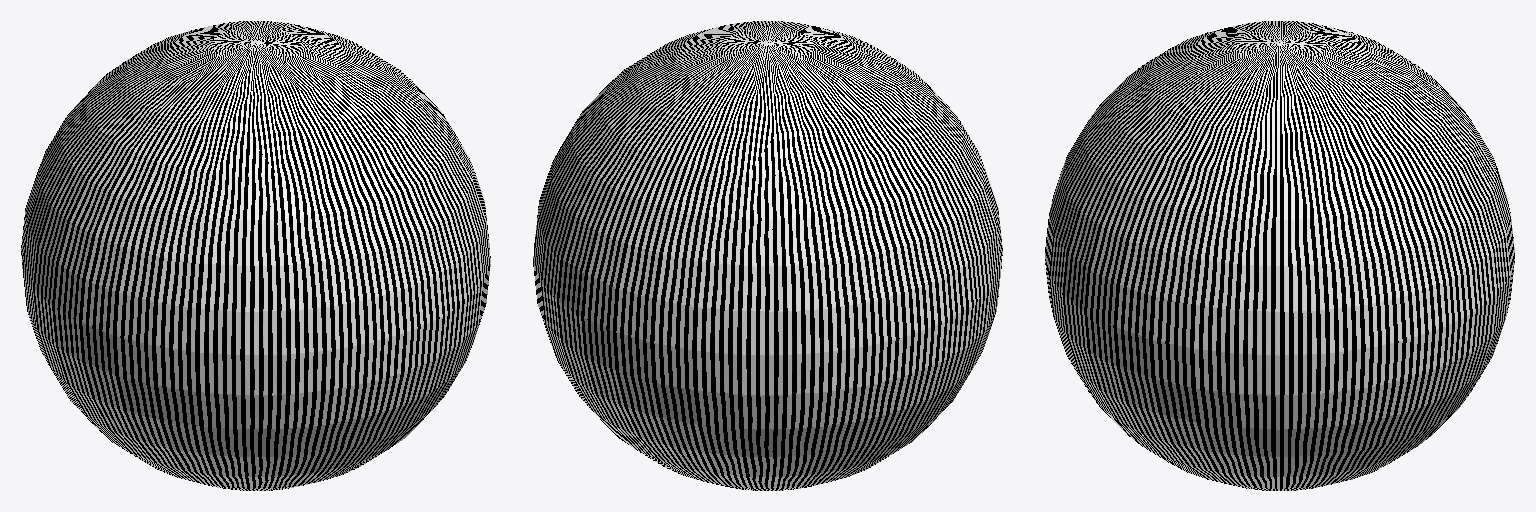
The picture shows the model from 3 angles: view 1: azimuth 30°, elevation 25°; view 2: azimuth 150°, elevation 25°; view 3: azimuth 270°, elevation 25°; orthographic projection.
Visible parts, largest first — view 1: Sphere; view 2: Sphere; view 3: Sphere.
Boxes of the visible parts, box(x1,y1,x2,y2) form: Sphere: box(21, 21, 490, 490); Sphere: box(533, 21, 1002, 490); Sphere: box(1045, 21, 1514, 490).
Bounding box in the file's own units: 0.6357 × 0.6357 × 0.6357.
1 materials, 1 textured.